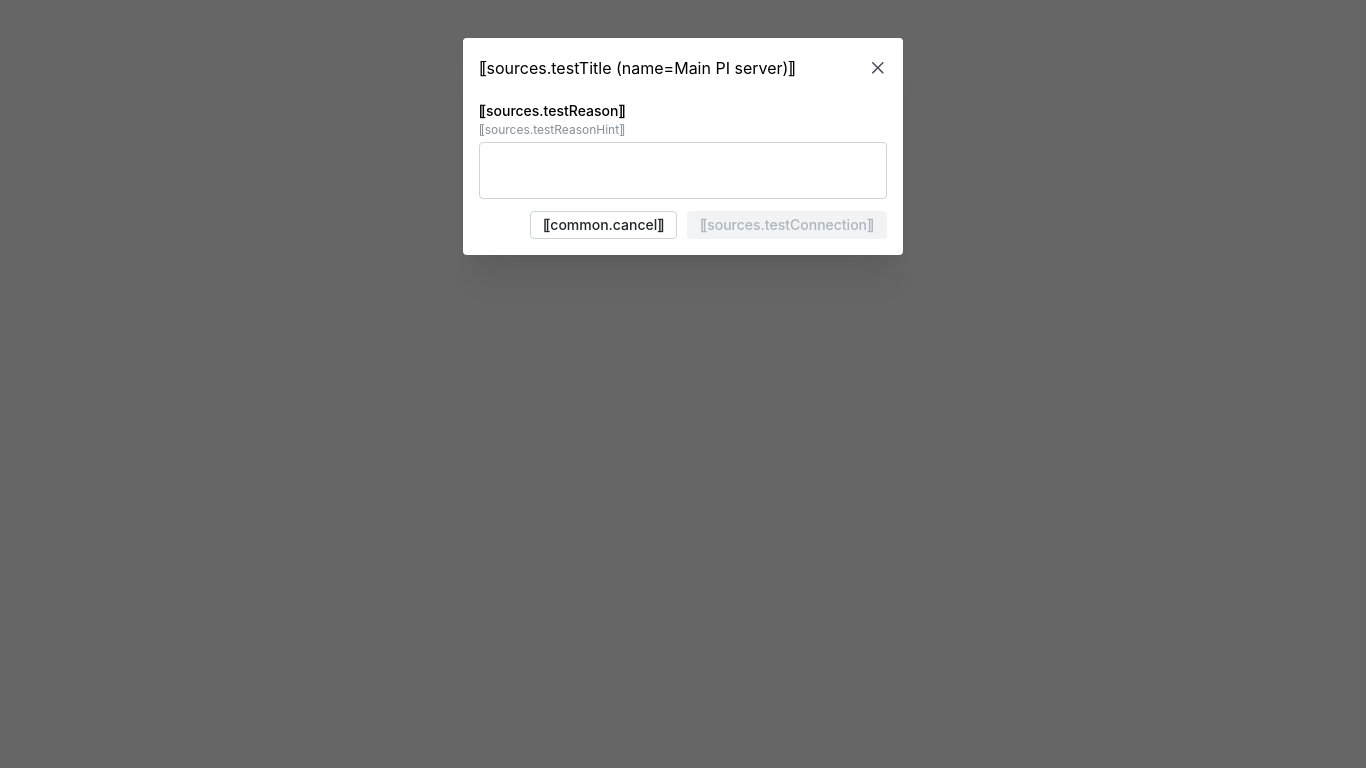
Test case: TestDataSourceModal › ok: false — відмова джерела, а не збій запиту; причина з каталогу за messageKey
The width and height of the screenshot is (1366, 768).
Type "перевірка" into the text box at (683,171), box [479, 143, 887, 200]
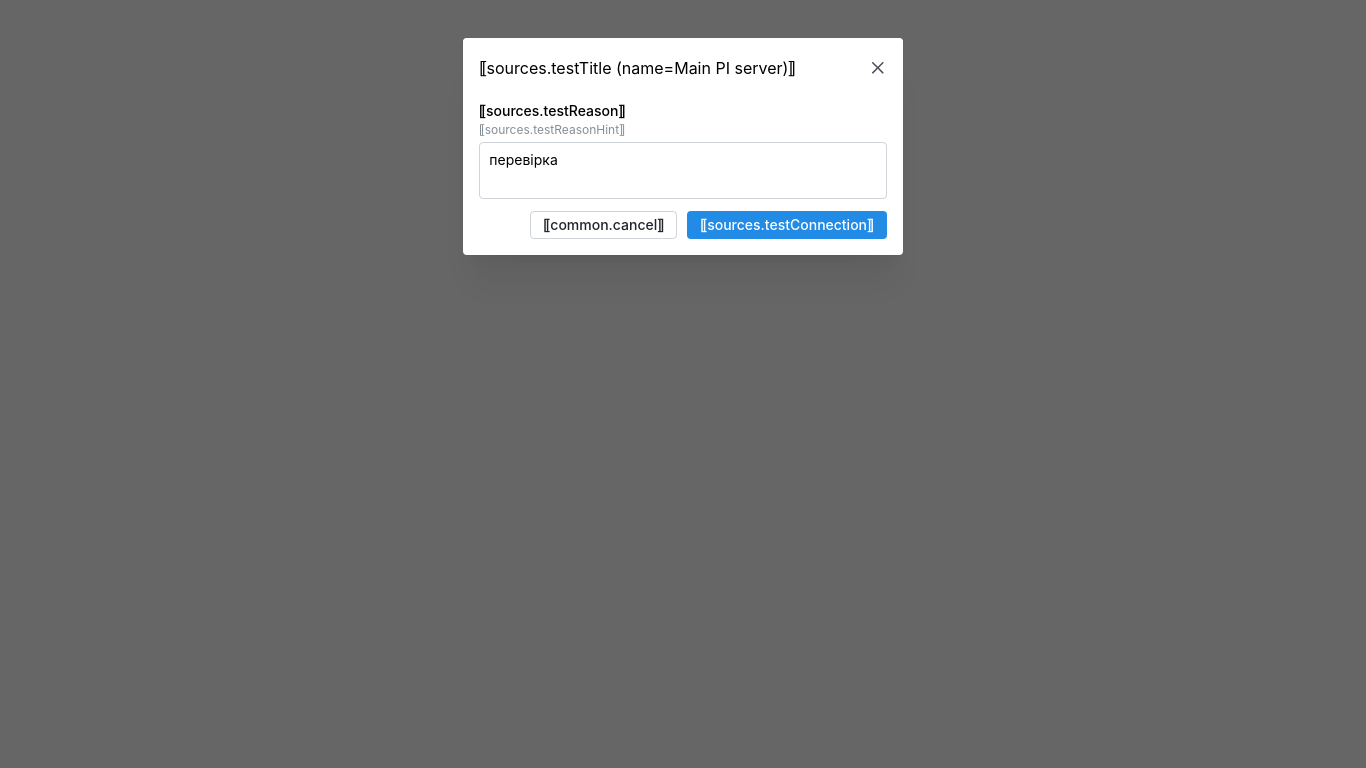
Click the button "⟦sources.testConnection⟧" at (787,226), box [687, 212, 887, 240]
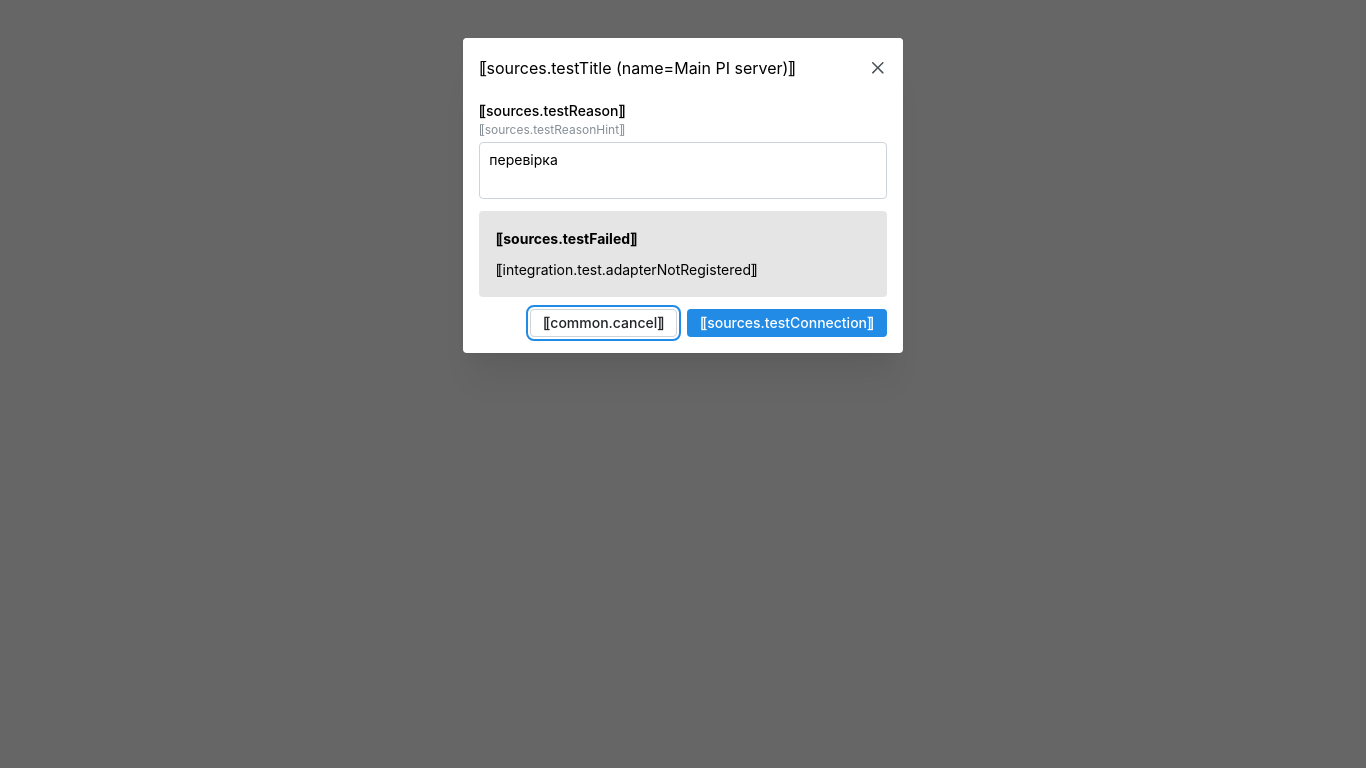
Expected: the message "⟦sources.testFailed⟧ ⟦integration.test.adapterNotRegistered⟧" is shown, [479, 212, 887, 298]
